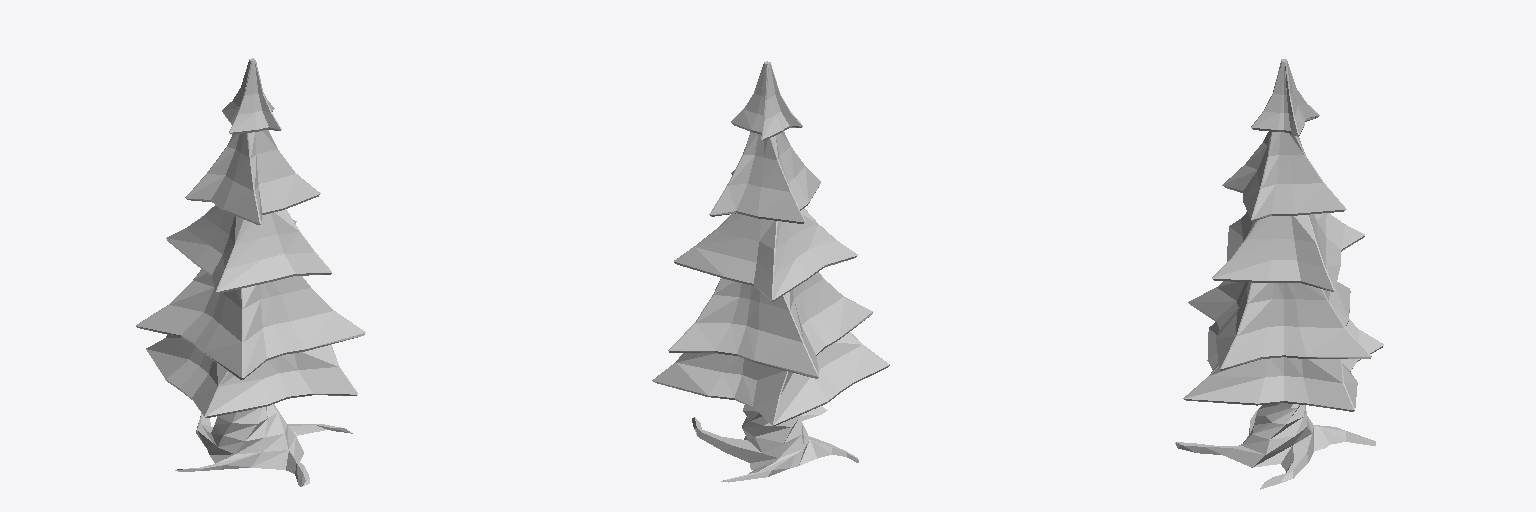
File: Pine.obj
3 views of the same model, side by side, from view 1: azimuth 30°, elevation 25°; view 2: azimuth 150°, elevation 25°; view 3: azimuth 270°, elevation 25° (orthographic).
Parts seen in each view (by area): view 1: pCube1; view 2: pCube1; view 3: pCube1.
Boxes of the visible parts, x1=… form: pCube1: x1=136, y1=58, x2=365, y2=486; pCube1: x1=652, y1=61, x2=889, y2=482; pCube1: x1=1175, y1=59, x2=1383, y2=489.
Bounding box in the file's own units: 2.49 × 5.35 × 2.6.